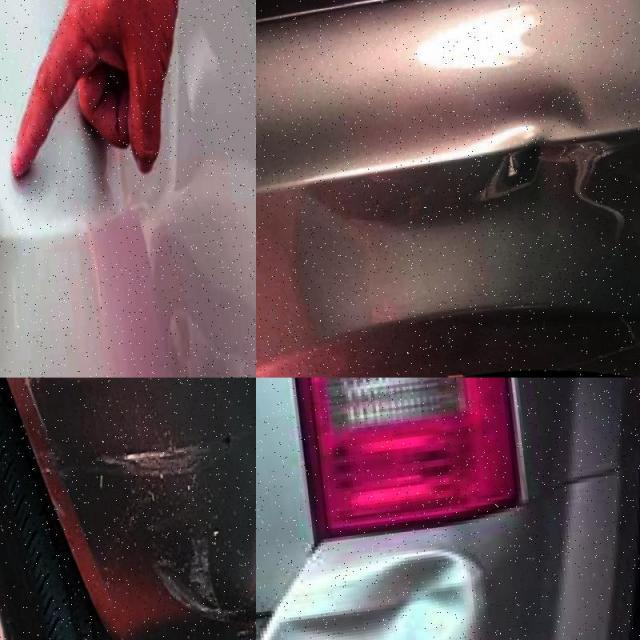car damage: (300, 546, 490, 640), (485, 80, 613, 204)
